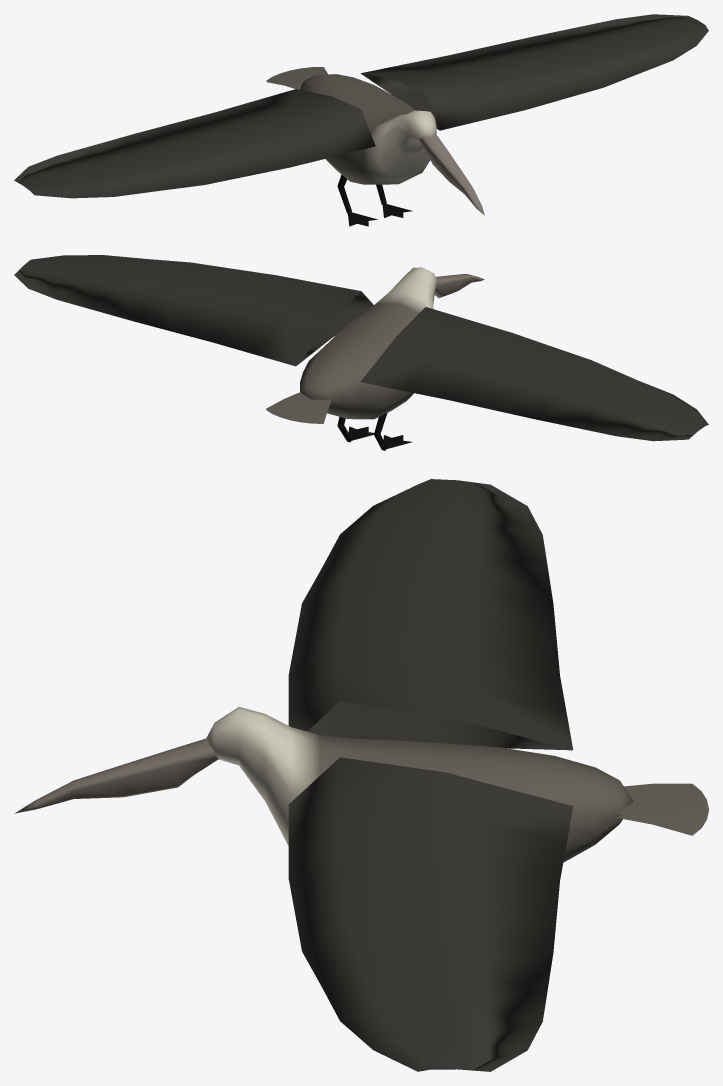
The model's file is brown-pelican.glb.
3 renders of one model, top to bottom at view 1: azimuth 30°, elevation 25°; view 2: azimuth 150°, elevation 25°; view 3: azimuth 270°, elevation 25°, orthographic. The views are drawn at different scales.
Parts seen in each view (by area): view 1: brown pelican (static spread wings); view 2: brown pelican (static spread wings); view 3: brown pelican (static spread wings).
Part boxes in pixels (box(x1,y1,x2,y2)): brown pelican (static spread wings): box(14, 14, 708, 226); brown pelican (static spread wings): box(14, 255, 708, 450); brown pelican (static spread wings): box(14, 479, 708, 1071).
Bounding box in the file's own units: 2.1 × 0.4115 × 1.05.
